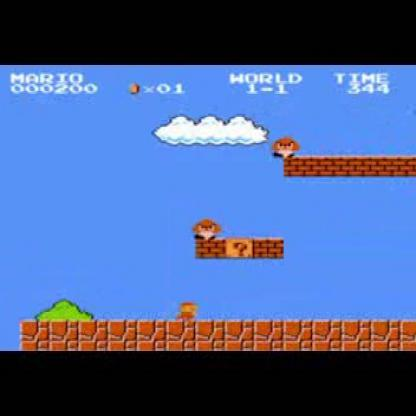Goomba: (271, 135, 301, 159), (192, 216, 220, 240)
Hoyo: (0, 318, 26, 354)
